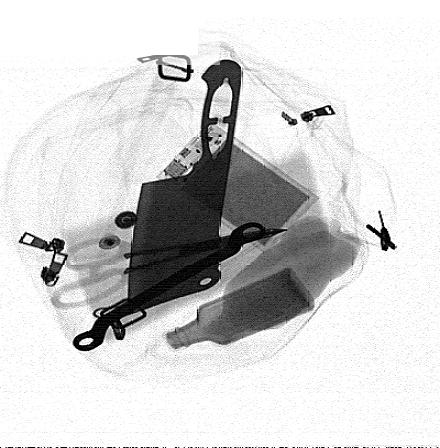Powerbank: (155, 120, 323, 256)
Scissors: (127, 61, 242, 312), (52, 228, 294, 309)
